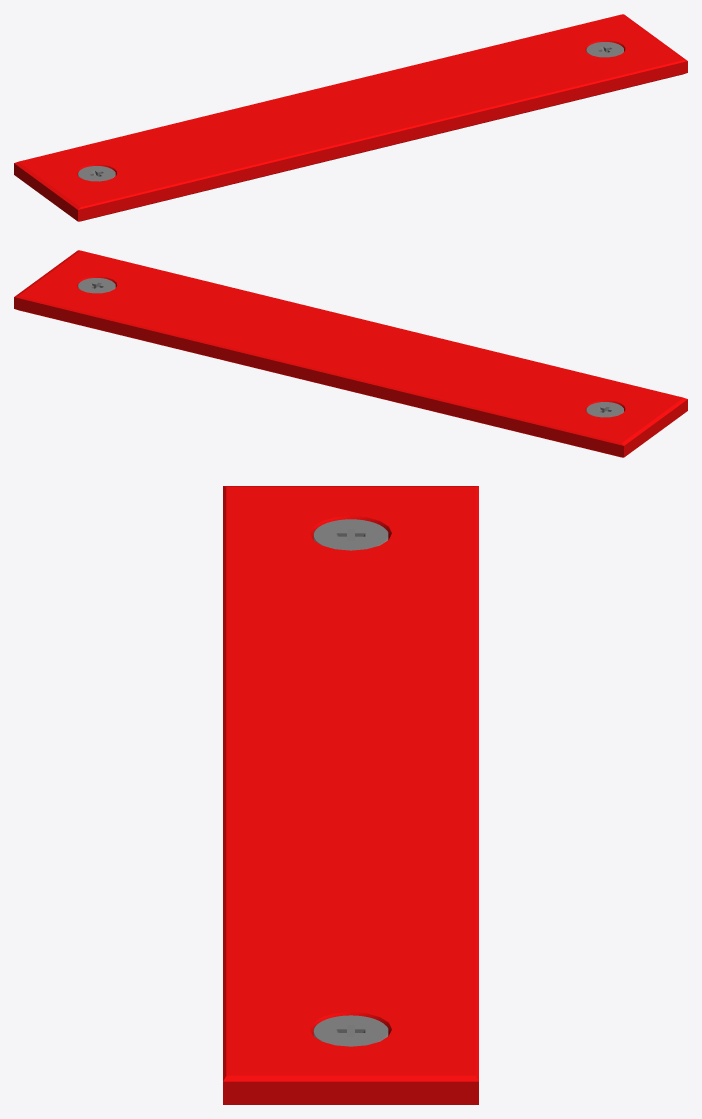
Rendered from BoltedPlankRed.fbx.
3 views of the same model, one above another, from view 1: azimuth 30°, elevation 25°; view 2: azimuth 150°, elevation 25°; view 3: azimuth 270°, elevation 25° (orthographic). The views are drawn at different scales.
Parts seen in each view (by area): view 1: Cube, Cube.001; view 2: Cube, Cube.001; view 3: Cube, Cube.001.
Part boxes in pixels (box(x1,y1,x2,y2)): Cube: box(14, 14, 687, 221); Cube.001: box(78, 42, 623, 181); Cube: box(14, 250, 687, 457); Cube.001: box(78, 278, 623, 417); Cube: box(223, 486, 478, 1104); Cube.001: box(313, 519, 388, 1046).
Bounding box in the file's own units: 21.97 × 0.4885 × 3.99.
